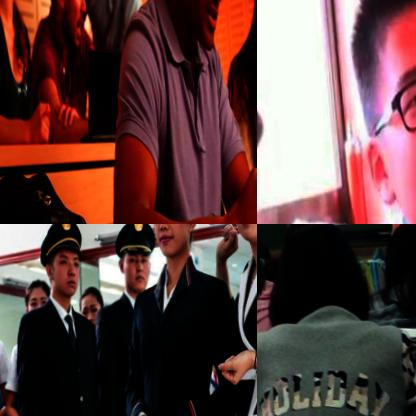head: (346, 0, 416, 224), (271, 224, 368, 328), (37, 224, 88, 302), (113, 224, 156, 295), (41, 0, 93, 54), (380, 224, 416, 297), (146, 224, 203, 263), (77, 284, 106, 335), (257, 250, 285, 300), (21, 279, 52, 323), (257, 239, 272, 272)
